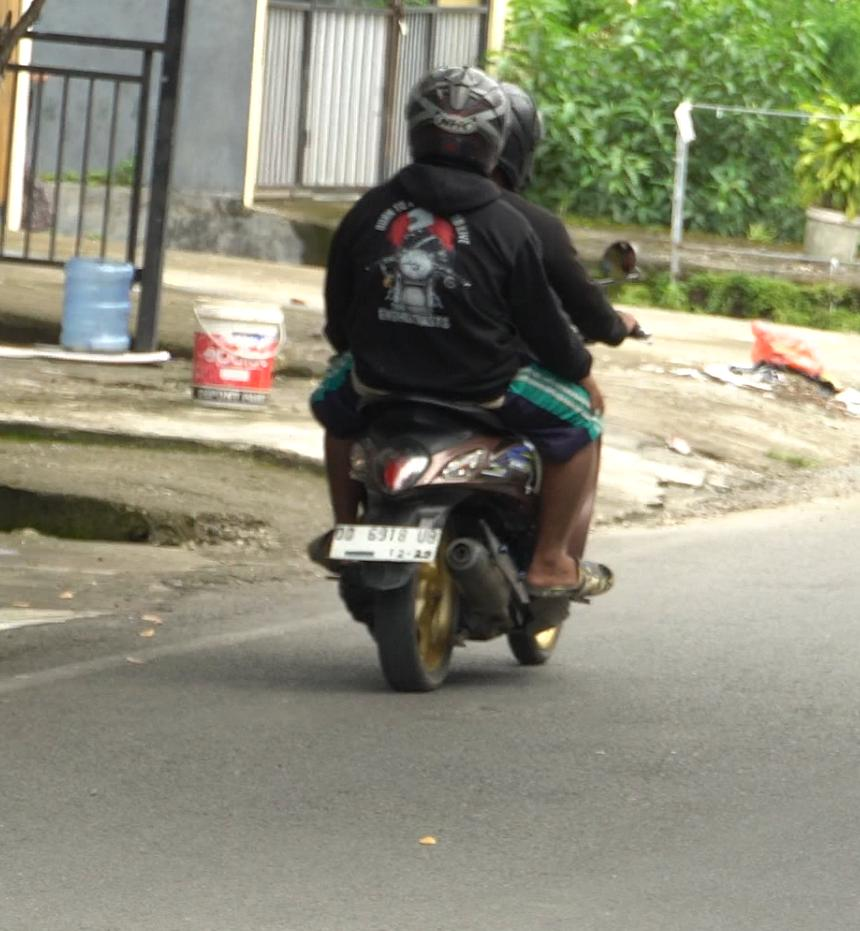number-plate: (320, 522, 442, 564)
